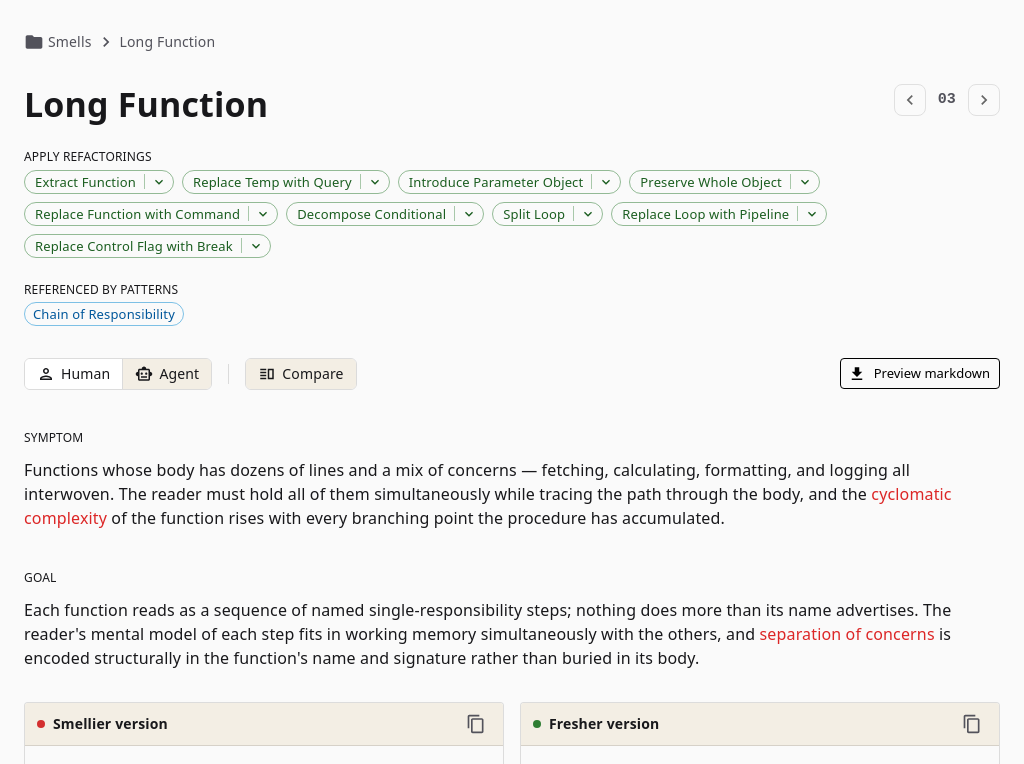
Test: user explores cross-references from a chip on a detail page › opens a popover with Extract Function's connected entries when the chevron is clicked
What coordinates should you click on to do the following:
click the button named "Extract Function cross-references"
I would click on:
 (159, 182)
Its box is top-left (145, 171), bottom-right (173, 193).
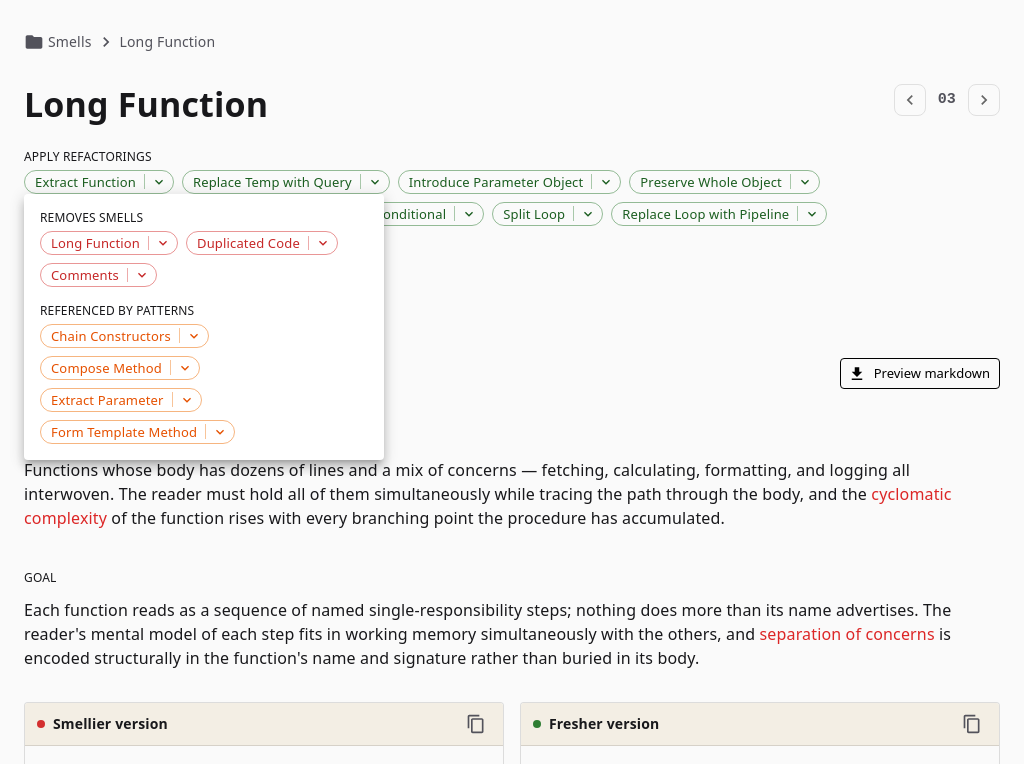
Expected: the text "Removes smells" is shown, top-left (40, 209), bottom-right (143, 226)
Expected: the link "Long Function" is shown, top-left (51, 234), bottom-right (140, 252)
